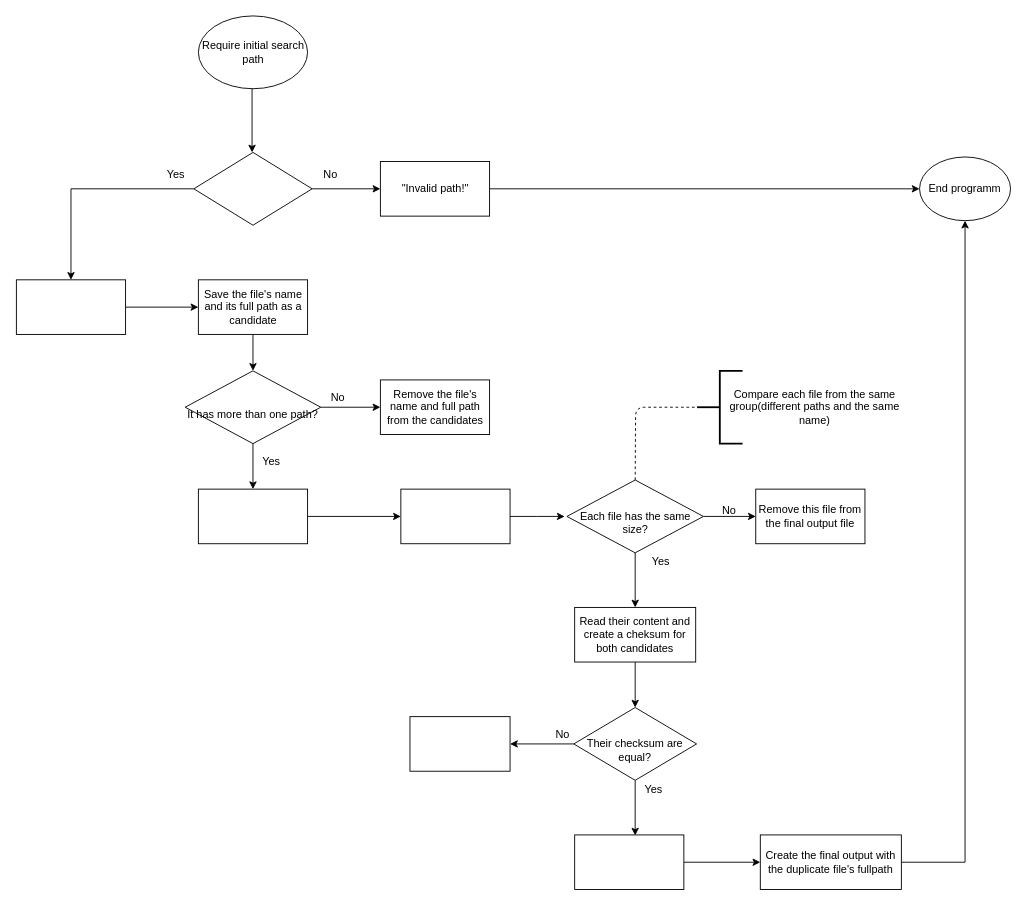
Image size: 1026x905. Some labels were removed from this diagram. Here are the shapes that lost their labels. From the top down, the box of each, then its label:
(193, 152, 312, 225): Valid path?
(15, 279, 126, 334): Start a Top-Down search through directories
(197, 488, 308, 544): Keep it in the candidate's dictionary
(400, 488, 510, 544): Create a text file with the final candidates
(409, 716, 510, 771): "It's not a duplicate file"
(574, 834, 684, 890): Save the cheksum and both fullpaths
